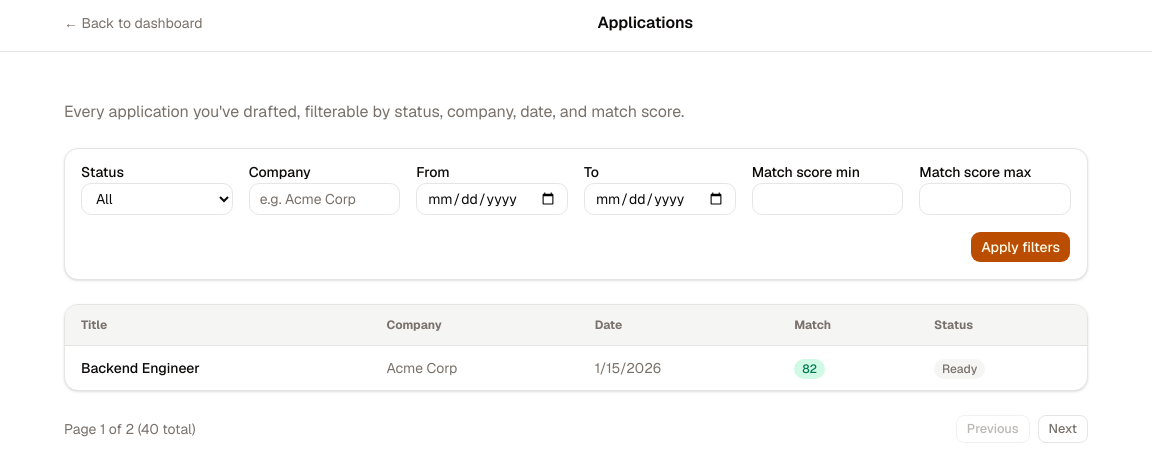
ApplicationsPage › disables "Previous" on the first page and enables it once paged forward
Expected: the link "Backend Engineer" is shown, [81,359,200,377]
Expected: the button "Previous" is disabled, [956,415,1030,443]
Step 1. Click the button "Next" → coordinates (1063, 429), box [1038,415,1088,443]
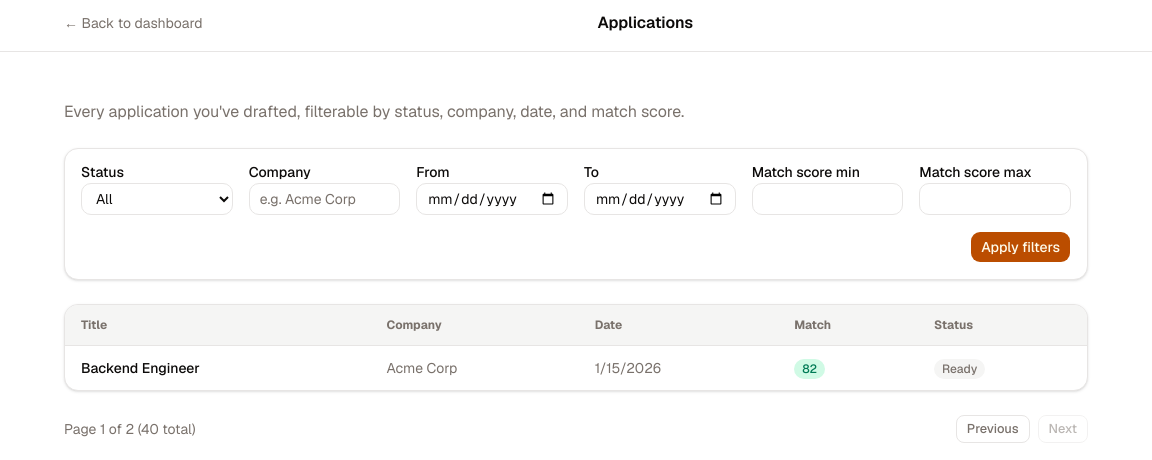
Result: the button "Previous" is enabled at [956,415,1030,443]
